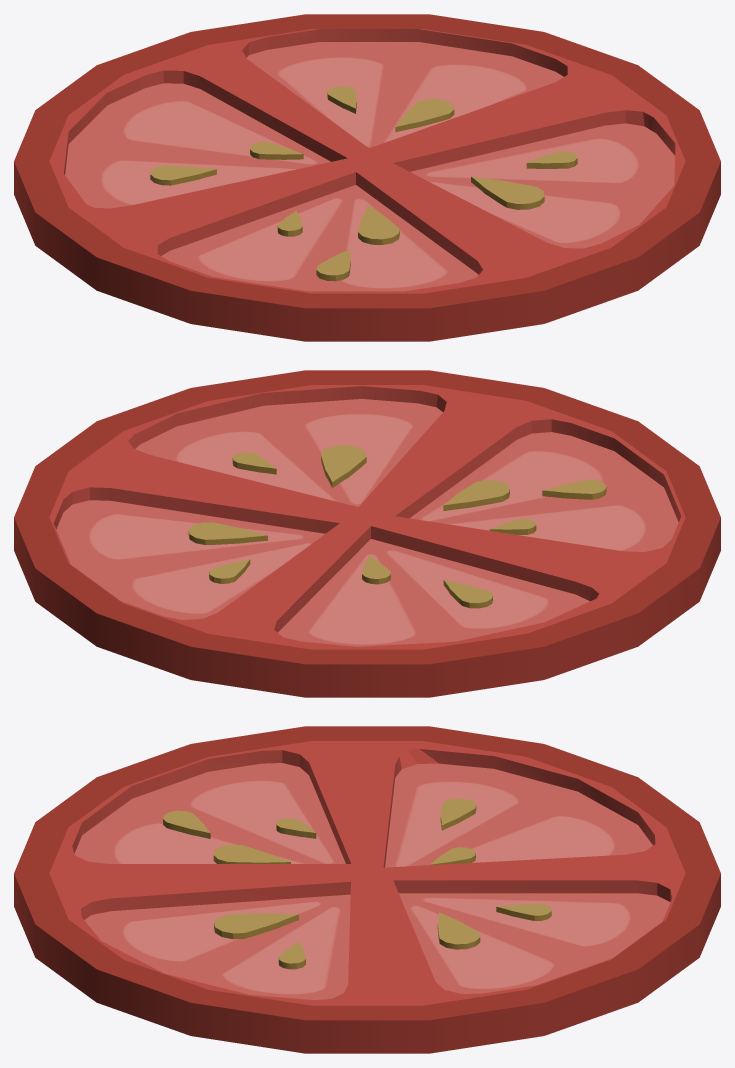
File: PF_Tomato.fbx
3 views of the same model, one above another, from view 1: azimuth 30°, elevation 25°; view 2: azimuth 150°, elevation 25°; view 3: azimuth 270°, elevation 25° (orthographic).
Parts seen in each view (by area): view 1: Whole Tomato; view 2: Whole Tomato; view 3: Whole Tomato.
Part boxes in pixels (x1,y1,x2,y2): Whole Tomato: (14, 14, 720, 341); Whole Tomato: (14, 370, 720, 697); Whole Tomato: (14, 726, 720, 1053).
Size of the model in its own units: 39.39 by 2.08 by 40.
